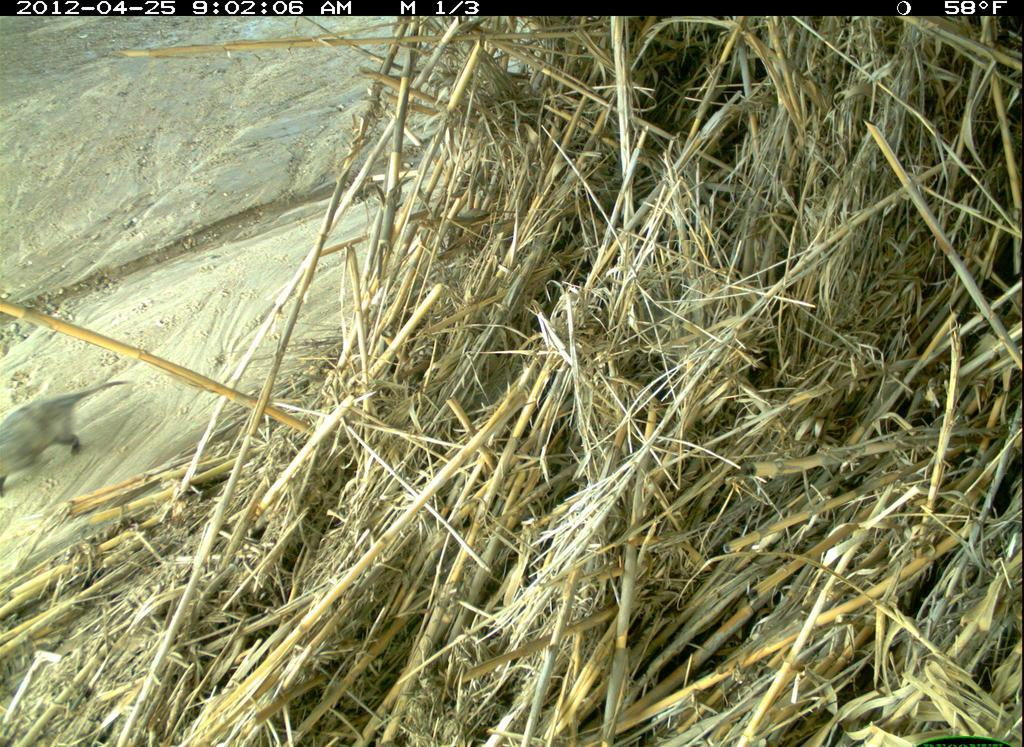opossum: (3, 368, 130, 484)
